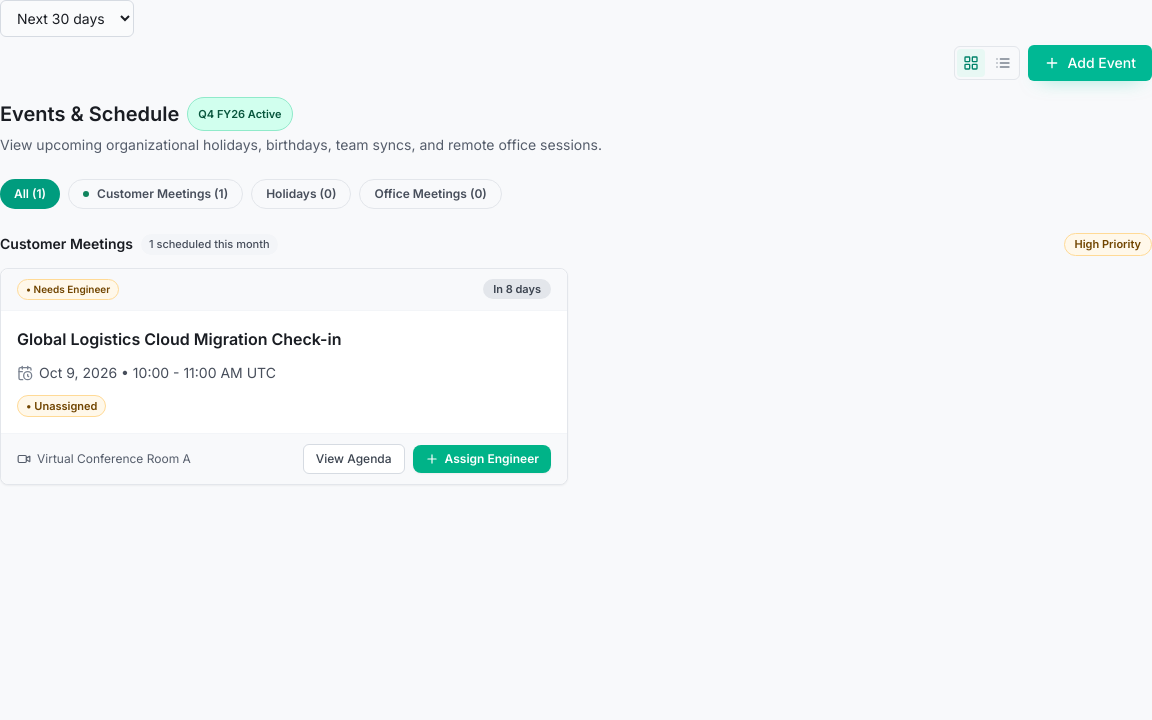
Test: Customer Meeting cards › flips the card to the assigned actions once the engineer is saved
Click the button "Assign Engineer": (482, 459) left=413, top=445, right=551, bottom=473
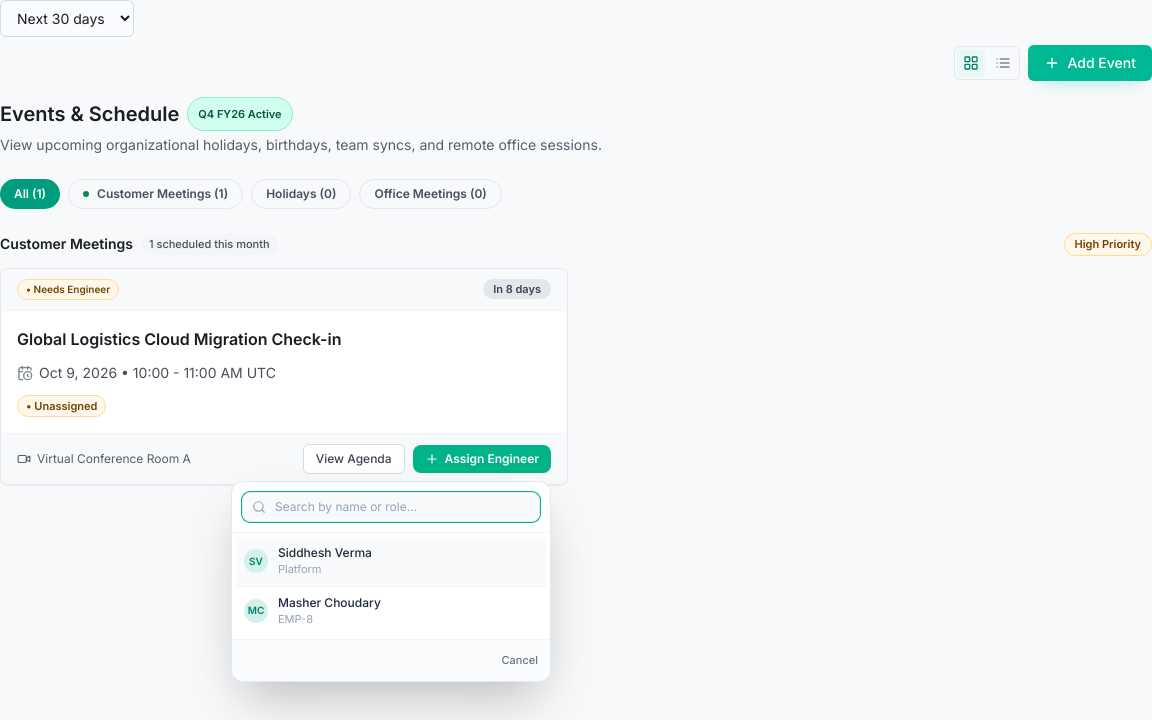
Click the button "SV Siddhesh Verma Platform": (325, 552) left=236, top=537, right=546, bottom=586
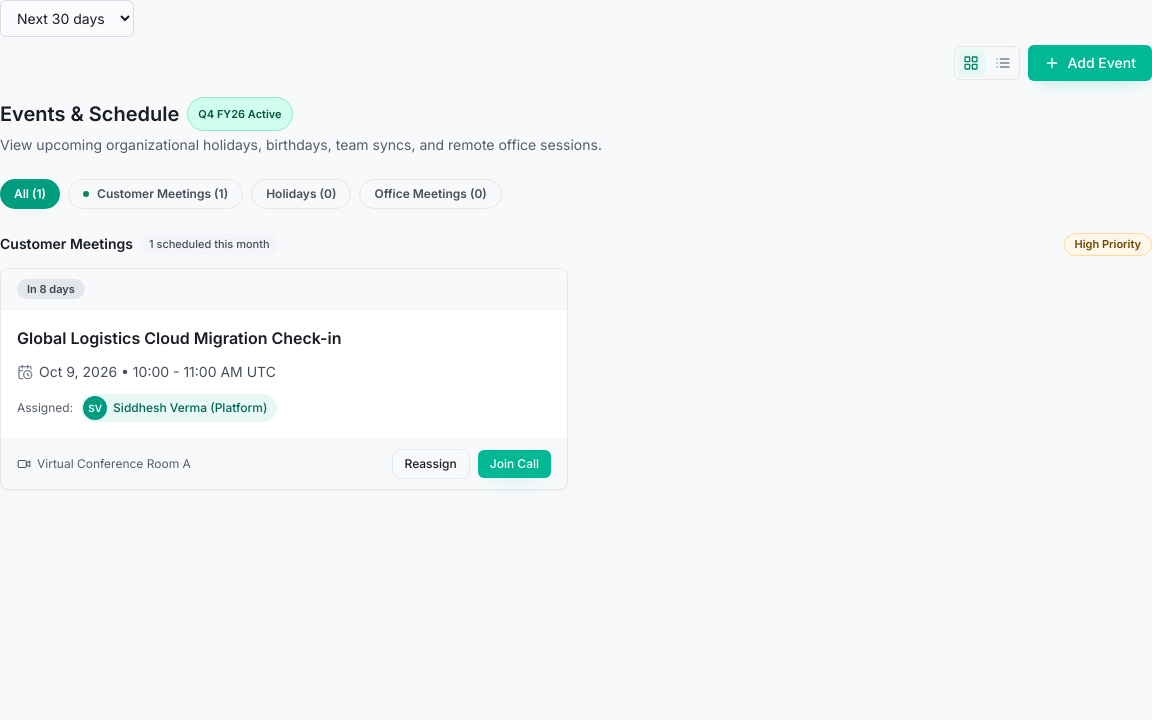
Result: the text "Assigned:" is shown at left=17, top=400, right=73, bottom=416
Result: the button "Reassign" is shown at left=392, top=449, right=470, bottom=479
Result: the button "Join Call" is shown at left=478, top=450, right=551, bottom=478
